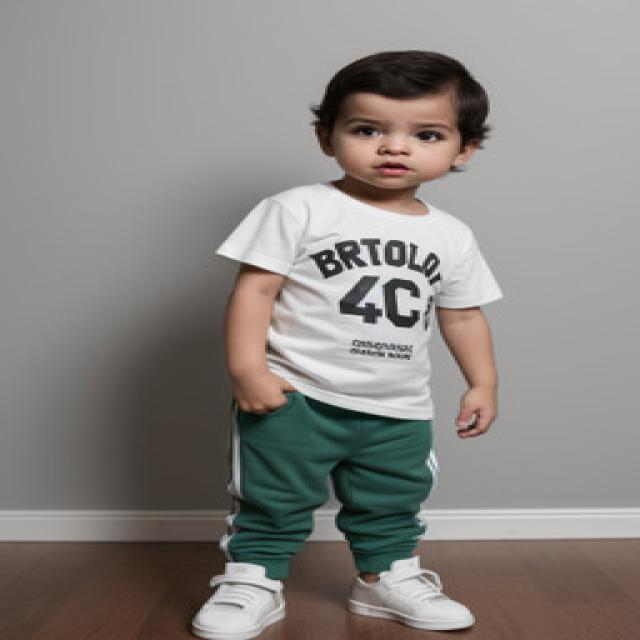Ai human 2: (209, 30, 534, 640)
